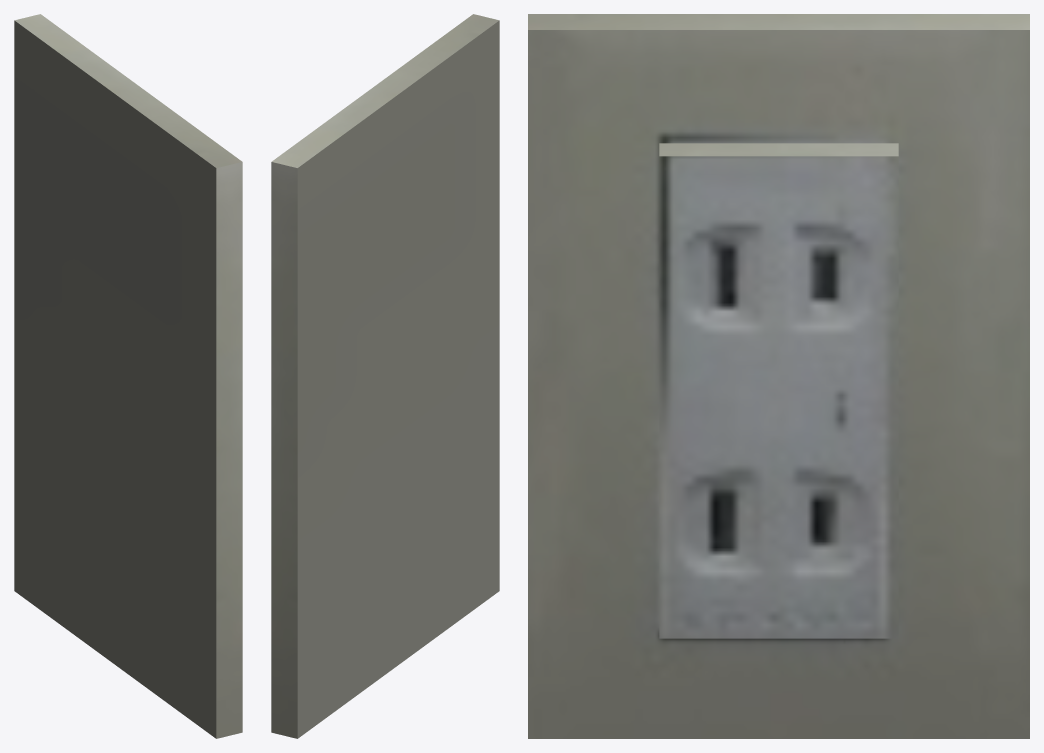
File: socket.gltf
3 views of the same model, side by side, from view 1: azimuth 30°, elevation 25°; view 2: azimuth 150°, elevation 25°; view 3: azimuth 270°, elevation 25° (orthographic). The views are drawn at different scales.
Visible parts, largest first — view 1: socket; view 2: socket; view 3: socket.
Boxes of the visible parts, x1,y1,x2,y2 form: socket: (14,14,242,738); socket: (271,14,499,738); socket: (528,14,1029,738).
Bounding box in the file's own units: 0.00657 × 0.0752 × 0.0483.
1 material, 1 textured.
